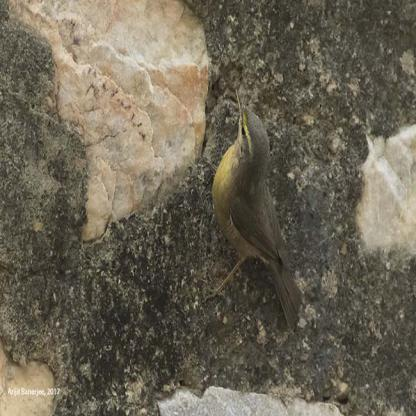Burung: (205, 86, 301, 333)
